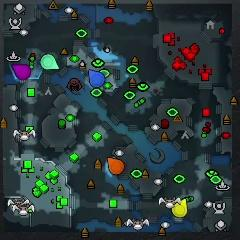p1: (88, 69, 105, 88)
p2: (40, 54, 60, 70)
p3: (12, 64, 32, 81)
p4: (172, 199, 187, 218)
p5: (107, 157, 124, 175)
